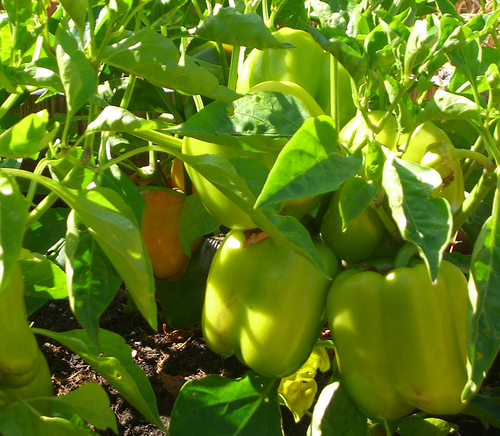capsicum: (327, 262, 473, 415), (200, 222, 338, 381)
